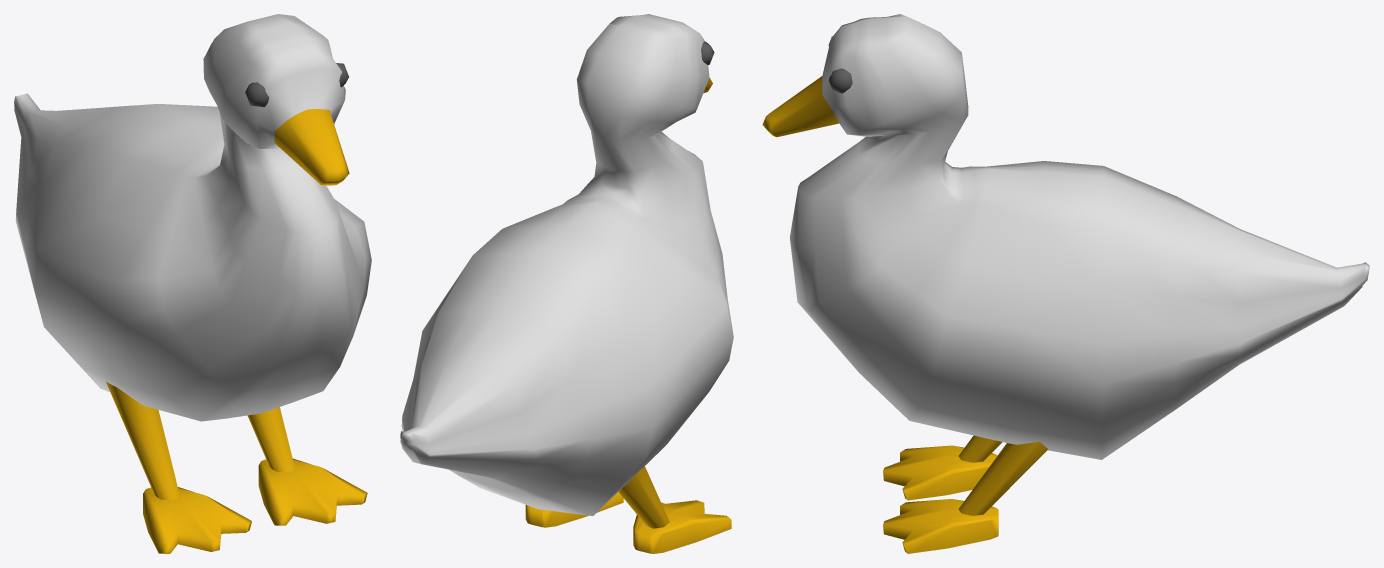
The model's file is duckduck.fbx.
The picture shows the model from 3 angles, left to right: view 1: azimuth 30°, elevation 25°; view 2: azimuth 150°, elevation 25°; view 3: azimuth 270°, elevation 25°; orthographic projection. The views are drawn at different scales.
Visible parts, largest first — view 1: pCube10; view 2: pCube10; view 3: pCube10.
Boxes of the visible parts, x1,y1,x2,y2 form: pCube10: (14, 14, 371, 553); pCube10: (400, 14, 733, 553); pCube10: (762, 14, 1369, 553).
Bounding box in the file's own units: 1.9 × 3.7 × 4.22.
